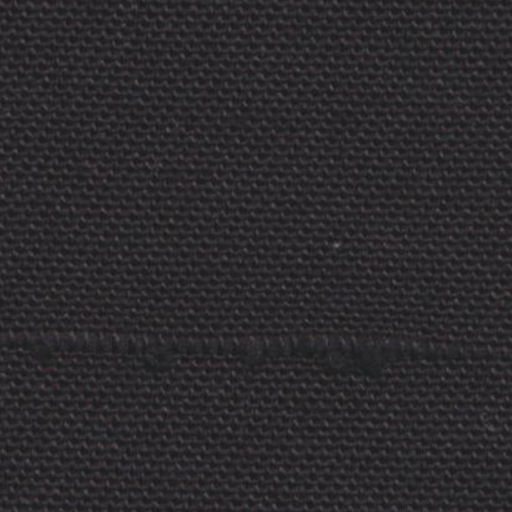DaiSha: (20, 316, 493, 380)
